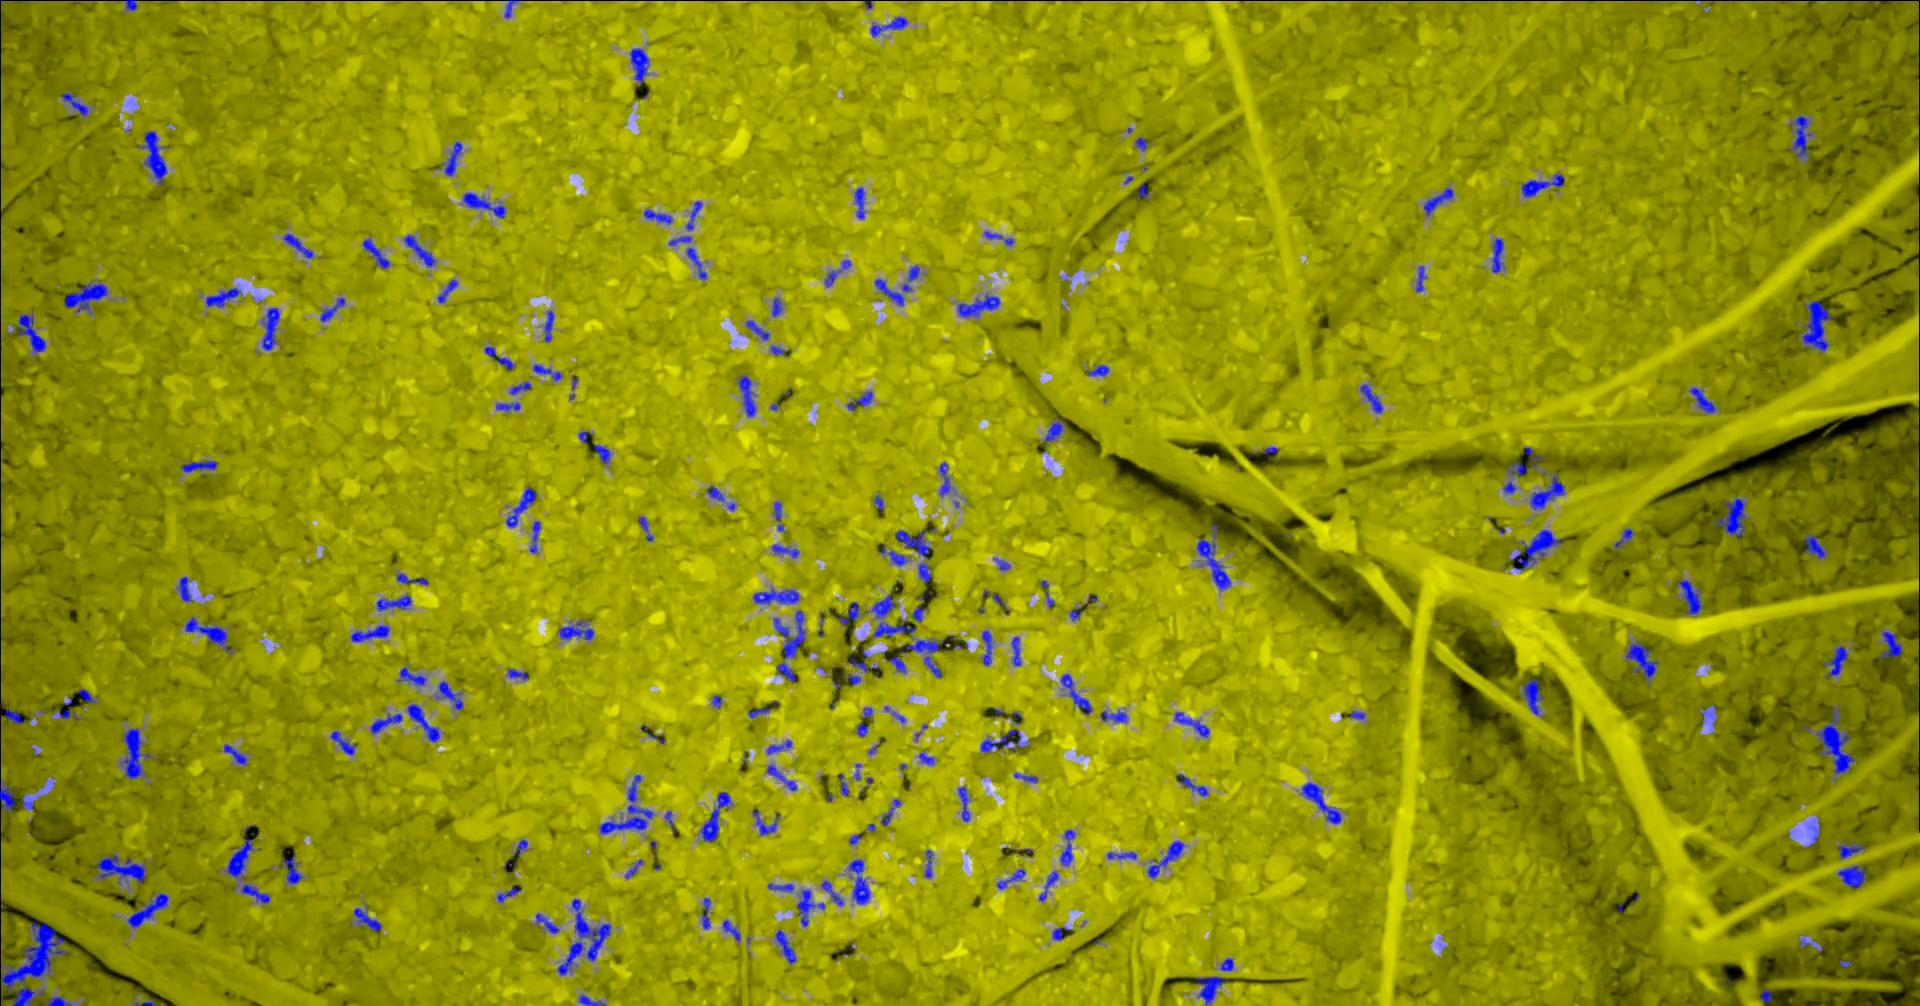ant: (598, 774, 653, 833), (1817, 706, 1854, 774), (1196, 523, 1230, 589), (773, 610, 805, 681), (1512, 528, 1563, 569), (874, 264, 919, 305), (1801, 300, 1835, 351), (902, 639, 947, 677), (184, 616, 232, 652), (1302, 781, 1341, 824), (137, 131, 168, 184), (700, 791, 731, 841), (127, 892, 168, 929), (119, 728, 149, 779), (97, 854, 145, 884), (1147, 840, 1183, 878), (63, 281, 108, 311), (1529, 473, 1564, 509), (1625, 640, 1657, 680), (408, 702, 439, 742), (505, 486, 536, 527), (1714, 498, 1745, 539), (1060, 673, 1091, 714), (13, 312, 44, 351), (895, 527, 935, 558), (462, 192, 505, 218), (403, 234, 436, 267), (226, 837, 253, 878), (1520, 173, 1564, 197), (957, 293, 1001, 318), (980, 728, 1023, 752), (796, 889, 824, 926), (1195, 976, 1229, 1005), (848, 859, 870, 904), (1675, 579, 1702, 614), (1789, 116, 1810, 158), (436, 680, 463, 710), (1175, 711, 1209, 735), (278, 850, 302, 884), (1423, 187, 1453, 215), (362, 239, 390, 268), (766, 763, 796, 790), (737, 375, 756, 417), (1521, 678, 1543, 715), (282, 232, 312, 258), (262, 307, 279, 351), (752, 588, 797, 605), (872, 619, 914, 636), (775, 929, 796, 963), (1823, 647, 1848, 677), (1176, 774, 1208, 796), (204, 287, 240, 307), (870, 17, 907, 36), (629, 47, 648, 83), (1689, 387, 1716, 413), (350, 624, 389, 641), (752, 809, 778, 835), (484, 345, 512, 370), (686, 246, 706, 279), (370, 713, 403, 733), (1359, 384, 1382, 413), (559, 620, 593, 639), (61, 91, 88, 116), (319, 297, 345, 321), (1837, 865, 1865, 888), (353, 907, 381, 930), (877, 544, 907, 565), (996, 868, 1025, 889), (0, 780, 14, 824), (330, 730, 356, 754), (444, 141, 462, 175), (1879, 630, 1902, 657), (1037, 871, 1058, 901), (1059, 829, 1076, 865), (880, 799, 902, 826), (241, 883, 269, 903), (871, 593, 894, 617), (684, 199, 702, 230), (1043, 417, 1063, 443), (376, 594, 411, 610), (397, 666, 425, 685), (836, 601, 858, 624), (1803, 533, 1825, 558), (0, 702, 25, 723), (846, 391, 872, 410), (535, 912, 557, 934), (745, 320, 770, 340), (822, 880, 842, 904), (640, 724, 665, 743), (532, 363, 561, 380), (848, 655, 877, 672), (437, 279, 457, 302), (223, 743, 246, 763), (856, 708, 872, 735), (180, 460, 216, 473), (495, 884, 521, 902), (643, 208, 672, 224), (1491, 238, 1503, 272), (58, 697, 77, 719), (957, 785, 969, 821), (938, 461, 950, 495), (1524, 447, 1543, 467), (637, 516, 653, 541), (396, 572, 427, 584), (177, 575, 192, 601), (766, 739, 791, 754), (723, 920, 740, 941), (771, 544, 797, 558), (1837, 843, 1864, 857), (1613, 528, 1632, 547), (982, 630, 992, 666), (592, 445, 610, 464), (625, 859, 643, 878), (530, 520, 540, 553), (1100, 710, 1128, 721), (773, 500, 783, 531), (664, 810, 677, 835), (578, 993, 604, 1005), (1506, 461, 1528, 475), (917, 561, 931, 583), (72, 688, 94, 702), (824, 269, 841, 287), (855, 187, 863, 218), (701, 897, 710, 929), (509, 381, 531, 394), (889, 655, 905, 672), (1415, 265, 1425, 292), (543, 310, 552, 340), (706, 485, 724, 500), (44, 995, 71, 1005), (1086, 365, 1109, 376), (1011, 636, 1020, 666), (507, 667, 527, 680), (504, 0, 519, 17), (1013, 772, 1037, 782), (770, 297, 782, 316), (668, 235, 691, 245), (1106, 851, 1137, 859), (1137, 183, 1150, 199), (495, 401, 521, 410), (838, 774, 848, 795), (912, 606, 926, 621), (924, 848, 932, 876), (918, 752, 935, 765), (1759, 988, 1771, 1005), (1051, 927, 1069, 939), (514, 840, 527, 855), (767, 883, 792, 890), (22, 794, 33, 810), (770, 345, 787, 356), (748, 708, 768, 716), (1134, 137, 1147, 151), (1220, 956, 1233, 970), (843, 673, 860, 683), (1502, 480, 1515, 493), (1069, 606, 1081, 620), (872, 494, 883, 509), (124, 0, 137, 10)
